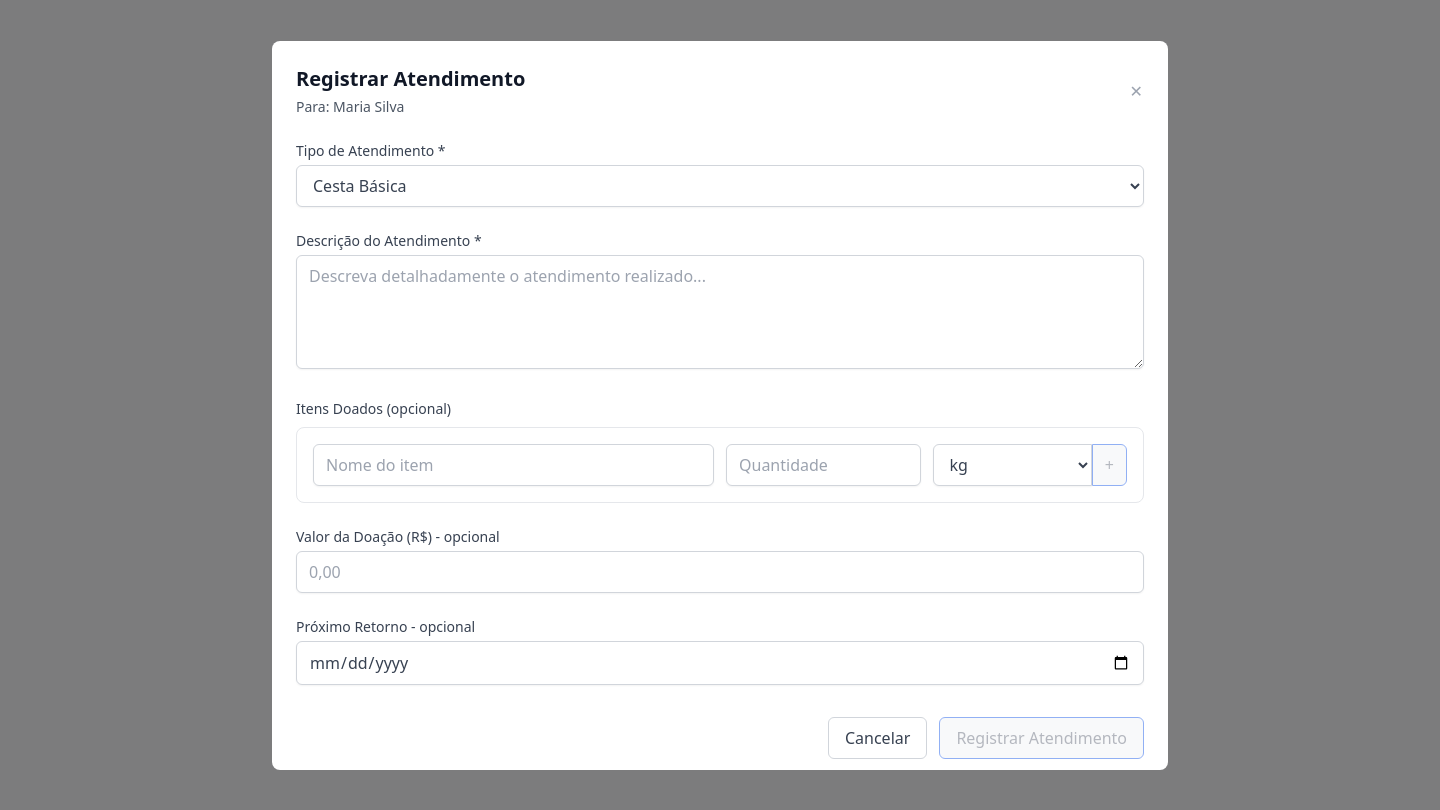
it: AtendimentoModal › Form validation › should enable save button when descricao has content
This screenshot has width=1440, height=810.
Type "Descricao do atendimento" into the text box labelled "Descrição do Atendimento *" at point(720, 312), box [296, 254, 1144, 368]
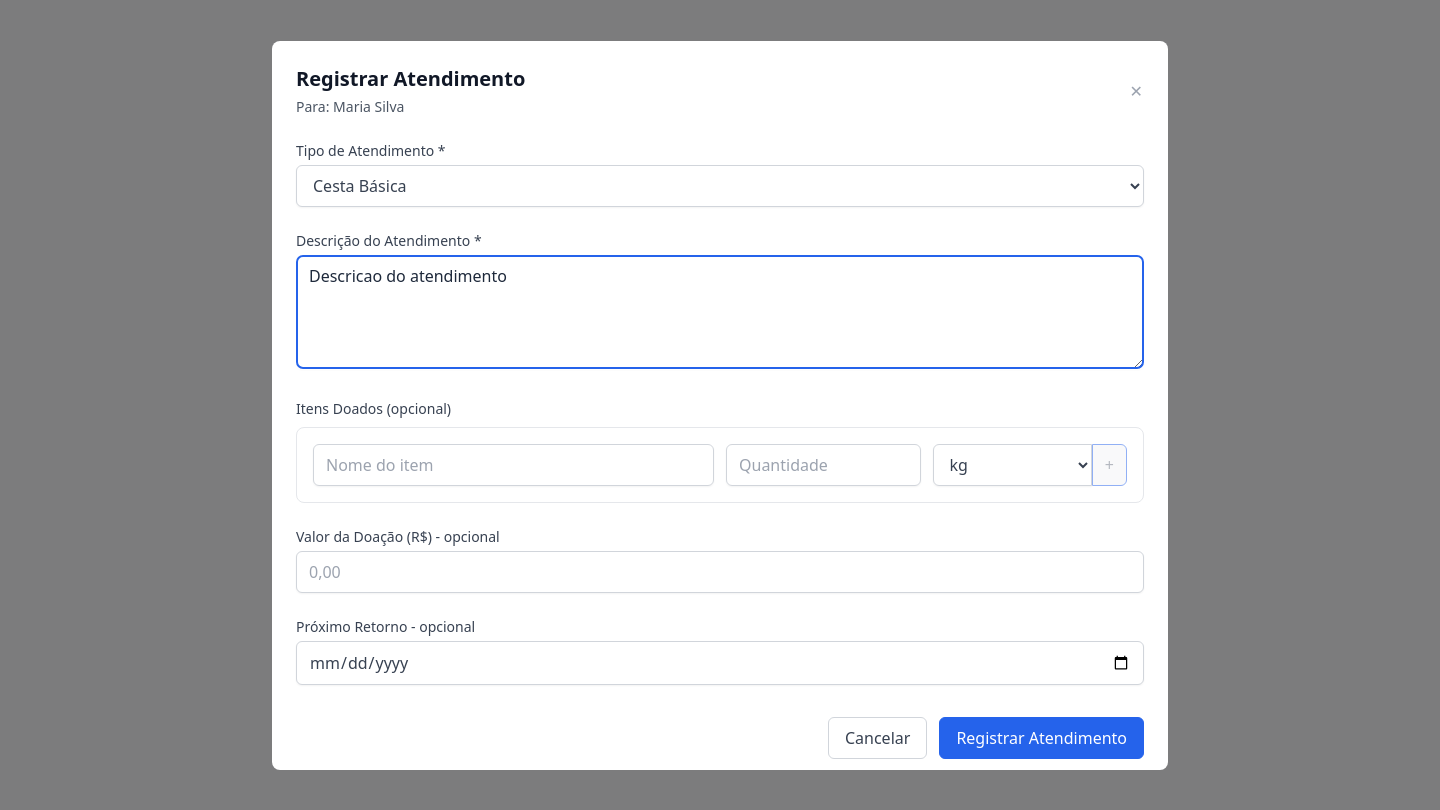
Check: the button "Registrar Atendimento" is enabled, box [939, 716, 1144, 758]
